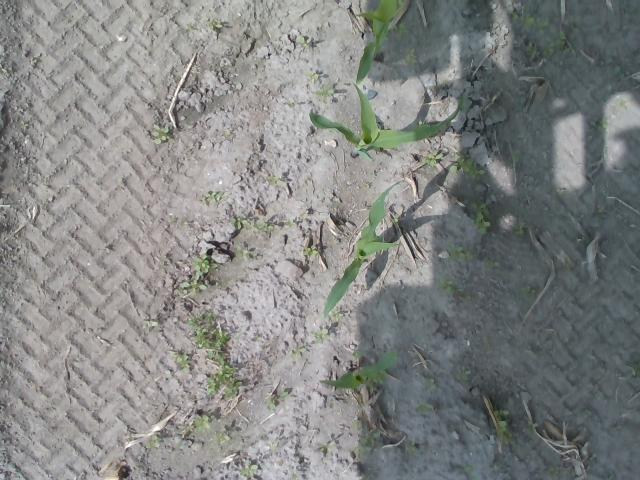Maize: (308, 81, 462, 164), (323, 180, 404, 317), (354, 0, 404, 85), (319, 350, 397, 390)
Weeds: (190, 313, 247, 400), (350, 420, 380, 461), (542, 27, 574, 56), (454, 155, 486, 180), (469, 201, 492, 235), (262, 390, 290, 410), (490, 410, 510, 434), (179, 278, 209, 293), (448, 244, 472, 260), (194, 255, 214, 273), (192, 412, 210, 432), (152, 124, 170, 144), (174, 350, 193, 368), (516, 12, 538, 27), (426, 150, 442, 168), (287, 346, 306, 360), (439, 280, 455, 296), (240, 464, 257, 478), (141, 318, 160, 330), (296, 34, 310, 50), (456, 368, 471, 382), (316, 88, 336, 98), (520, 284, 534, 298), (304, 70, 320, 82), (406, 47, 418, 63), (215, 432, 229, 445), (314, 329, 328, 342), (403, 441, 416, 455), (256, 221, 274, 231), (302, 244, 318, 255), (203, 190, 220, 200), (148, 436, 160, 450), (526, 44, 540, 56), (596, 206, 610, 218), (237, 246, 249, 260), (232, 217, 250, 226), (516, 220, 526, 236), (210, 18, 224, 29), (594, 119, 607, 130), (372, 375, 386, 385), (424, 377, 434, 389), (510, 150, 520, 161), (332, 310, 342, 320), (399, 22, 408, 33)
